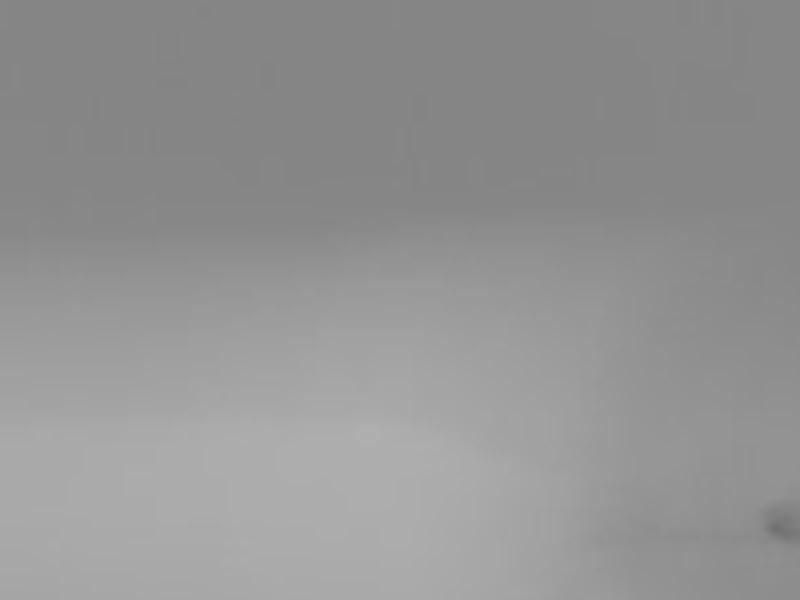defect: (767, 497, 800, 542)
